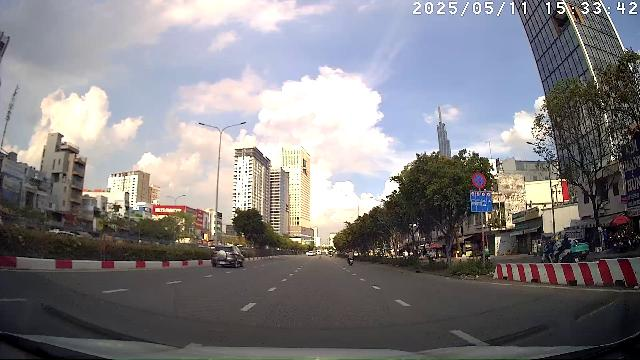130-cam-dung-va-do-xe: (472, 172, 486, 188)
